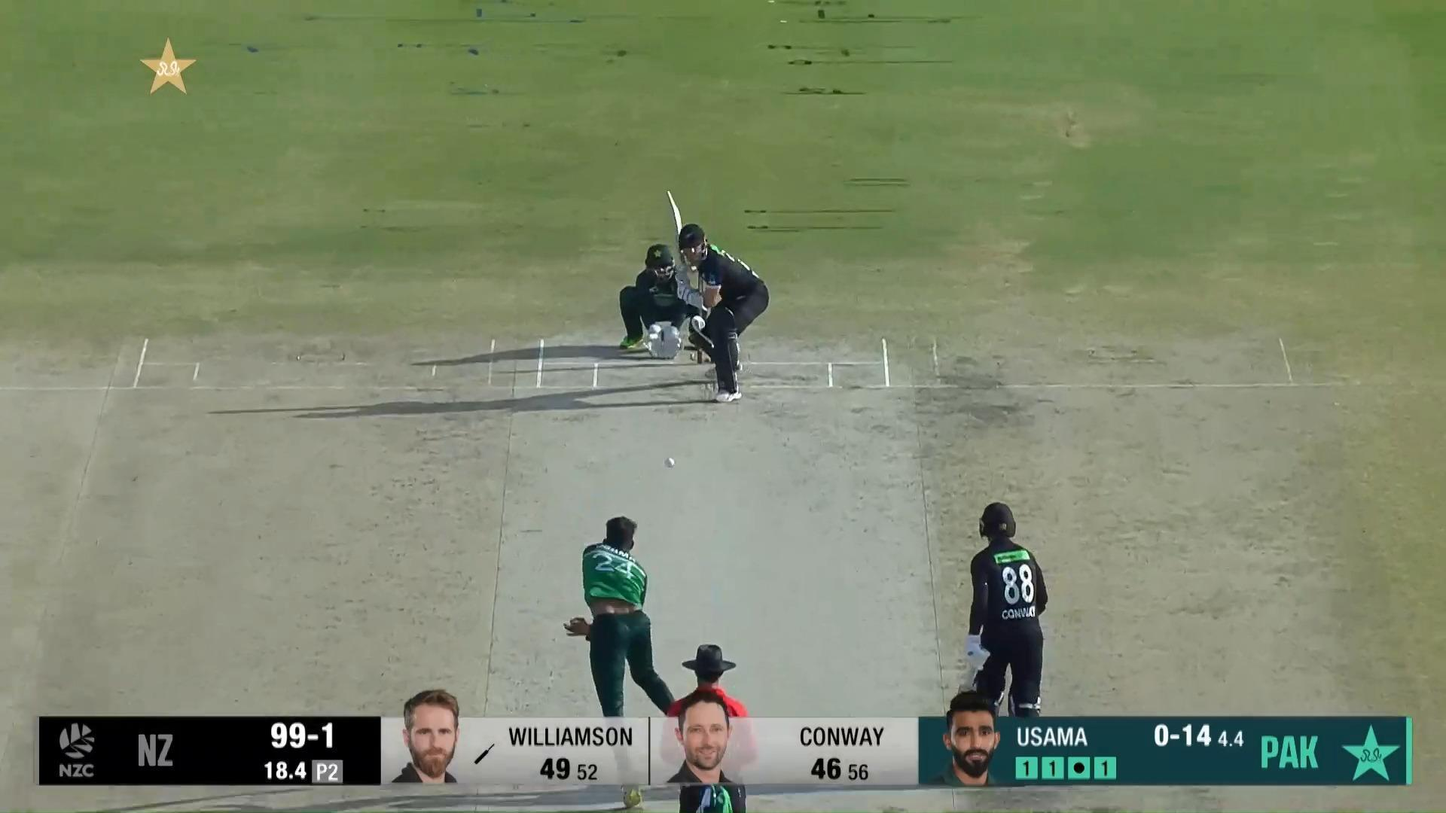BM 1: (664, 187, 770, 405)
BO: (563, 515, 699, 809)
